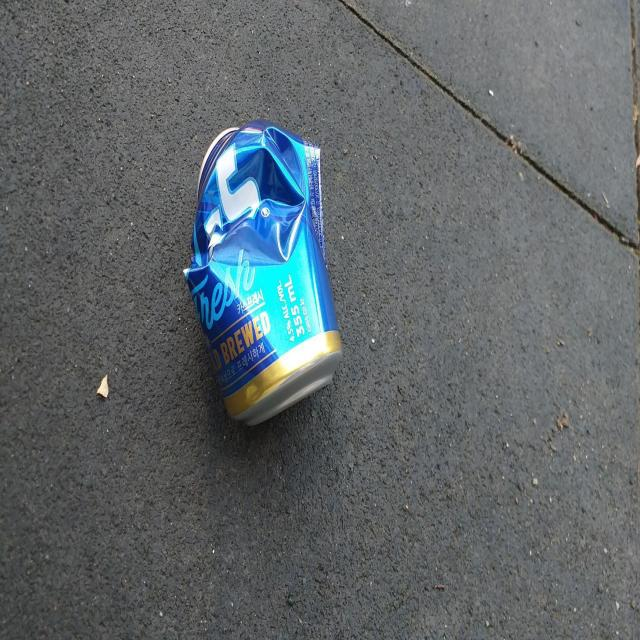can: (184, 119, 342, 425)
